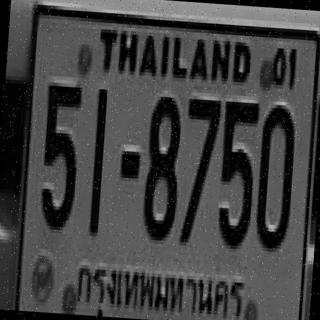N00: (254, 100, 296, 249)
N01: (88, 85, 107, 232)
N05: (214, 98, 258, 246), (37, 79, 81, 227)
N07: (178, 95, 220, 244)
N08: (140, 92, 182, 238)
P04: (70, 247, 252, 320)
